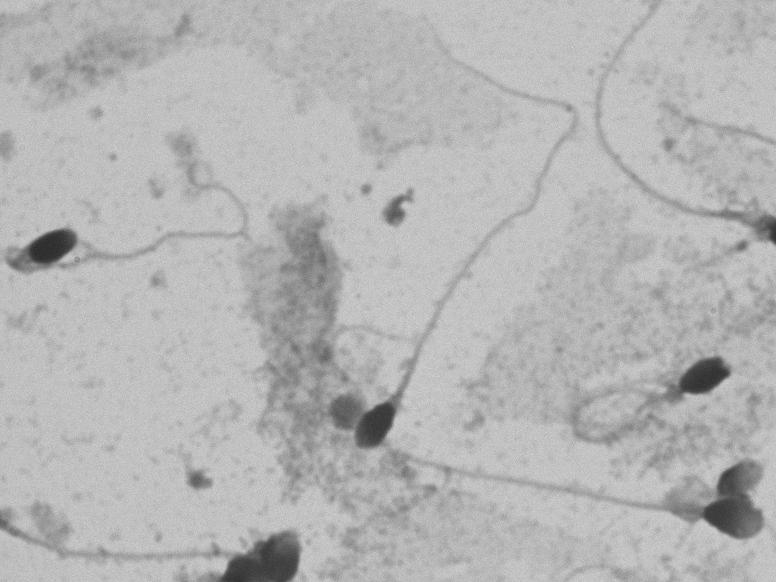Abnormal: (7, 159, 274, 321), (514, 429, 768, 559), (553, 323, 747, 448)
Normal: (337, 7, 594, 466)
